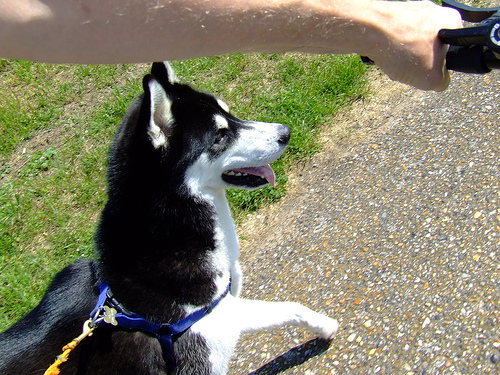dog: (0, 61, 341, 373)
